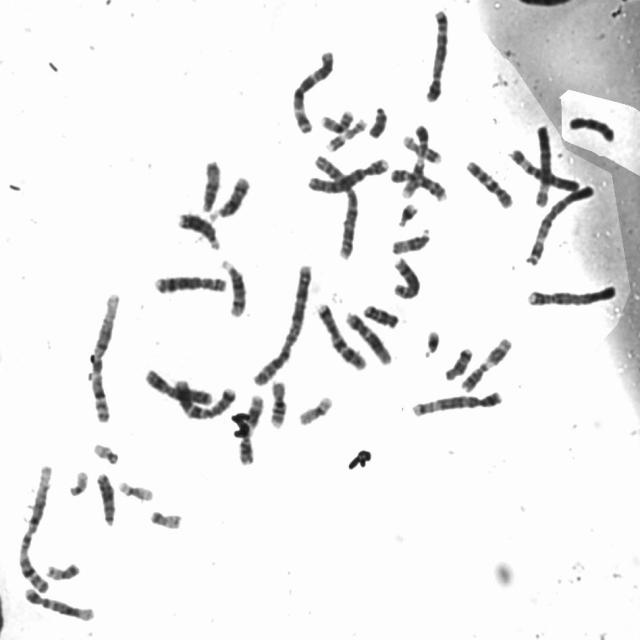A1: (14, 458, 56, 594), (85, 286, 122, 424)
A2: (248, 257, 314, 388), (308, 148, 361, 261)
A3: (522, 178, 597, 266), (287, 44, 337, 134)
B4: (303, 151, 392, 195), (522, 279, 618, 309)
B5: (407, 384, 505, 418), (420, 2, 451, 104)
C10: (461, 154, 516, 210), (564, 110, 616, 143)
C11: (455, 332, 514, 394), (234, 388, 266, 466)
C12: (340, 306, 394, 367), (19, 582, 96, 623)
C6: (505, 143, 581, 193), (529, 119, 553, 208)
C7: (312, 298, 368, 372), (171, 374, 238, 421)
C8: (148, 269, 230, 295), (388, 251, 422, 301)
C9: (398, 120, 432, 200), (385, 162, 449, 202)
D13: (173, 206, 221, 251), (91, 467, 118, 527)
D14: (206, 170, 252, 221), (216, 253, 249, 318)
D15: (196, 154, 222, 214), (387, 223, 433, 256)
E16: (264, 374, 290, 430), (316, 104, 355, 134)
E17: (324, 117, 375, 153), (398, 129, 443, 165)
E18: (440, 341, 475, 382), (358, 298, 401, 330)
F19: (293, 389, 335, 427), (113, 474, 156, 502)
F20: (145, 504, 184, 531), (42, 557, 82, 581)
G21: (391, 196, 420, 228), (420, 323, 442, 357)
G22: (88, 437, 121, 465), (63, 472, 89, 501)
X: (139, 362, 215, 407)
Y: (364, 100, 389, 139)
